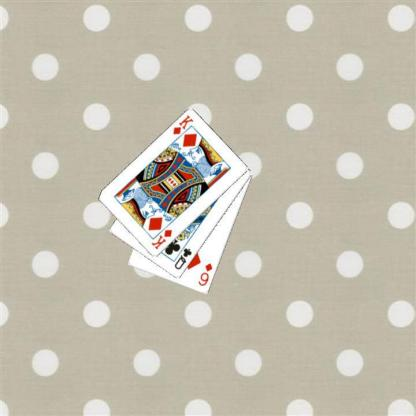6D: (196, 261, 214, 287)
KD: (148, 227, 174, 251), (170, 112, 195, 136)
QC: (172, 246, 193, 271)
